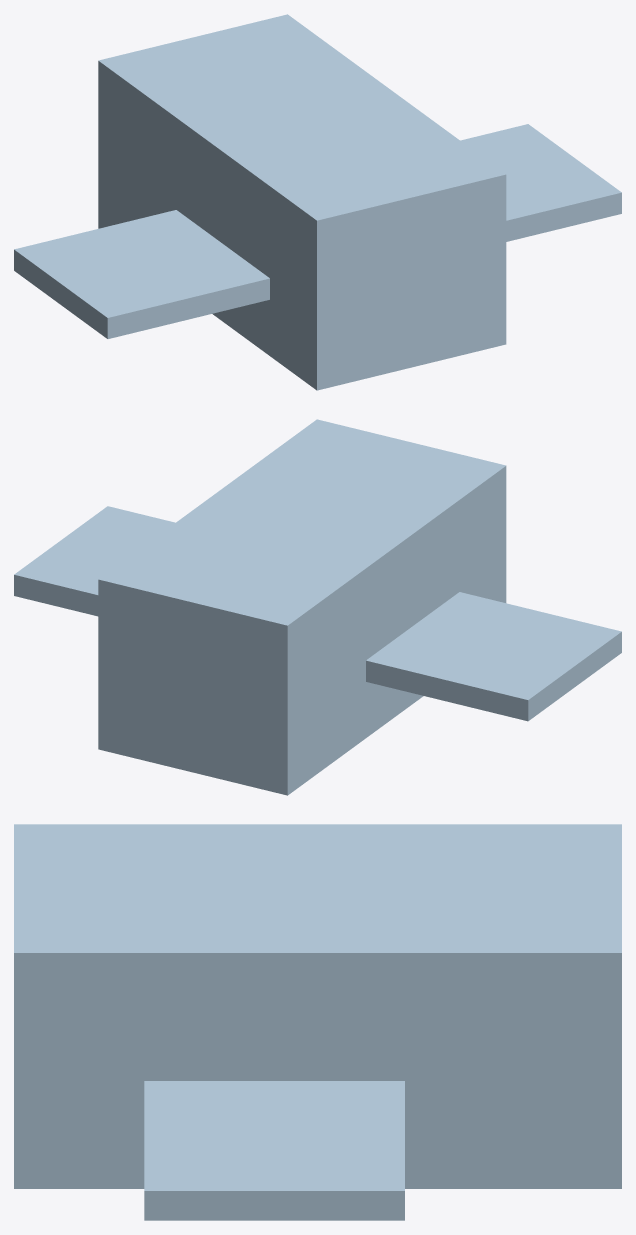
Rendered from ice_wyvern.glb.
3 views of the same model, one above another, from view 1: azimuth 30°, elevation 25°; view 2: azimuth 150°, elevation 25°; view 3: azimuth 270°, elevation 25° (orthographic). The views are drawn at different scales.
Parts seen in each view (by area): view 1: ice_wyvern; view 2: ice_wyvern; view 3: ice_wyvern.
Boxes of the visible parts, box(x1,y1,x2,y2) form: ice_wyvern: box(14, 14, 621, 390); ice_wyvern: box(14, 419, 621, 795); ice_wyvern: box(14, 824, 621, 1220).
Bounding box in the file's own units: 3.8 × 1.2 × 2.8.
